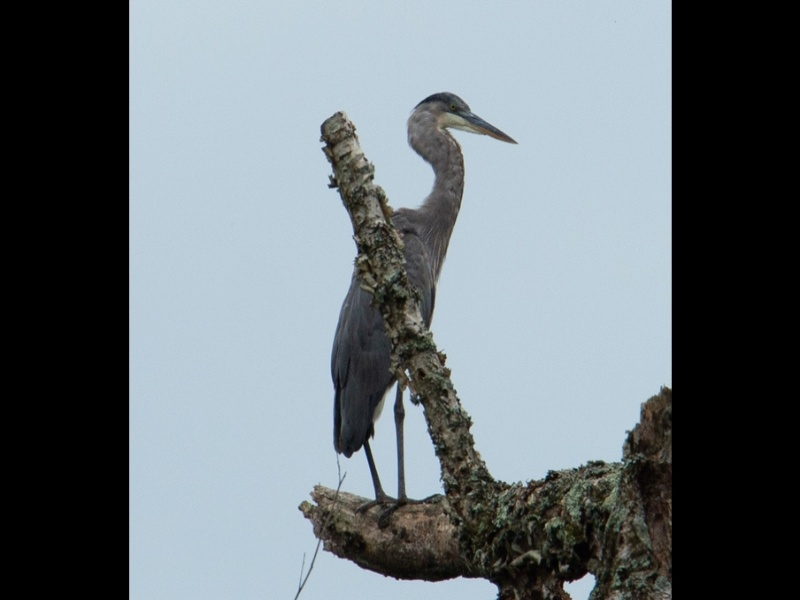heron: (330, 89, 528, 528)
